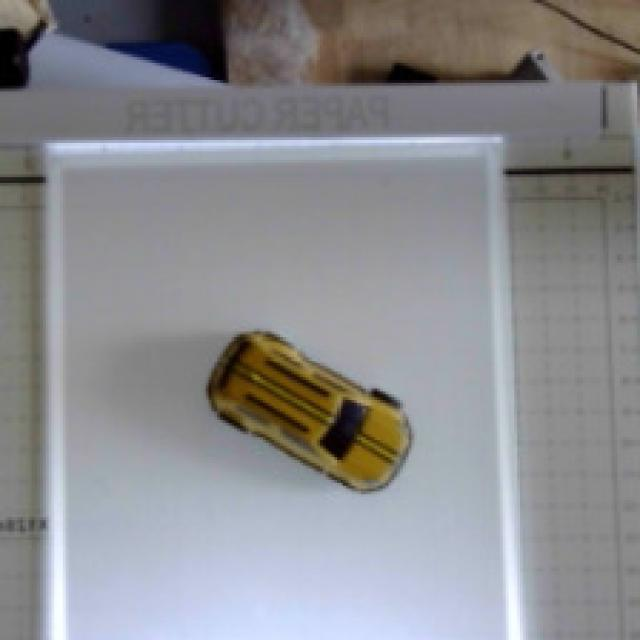Yellow Car: (161, 291, 468, 530)
